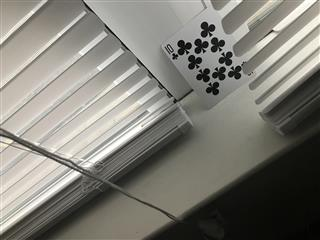TenOfClubs: (160, 5, 256, 109)
